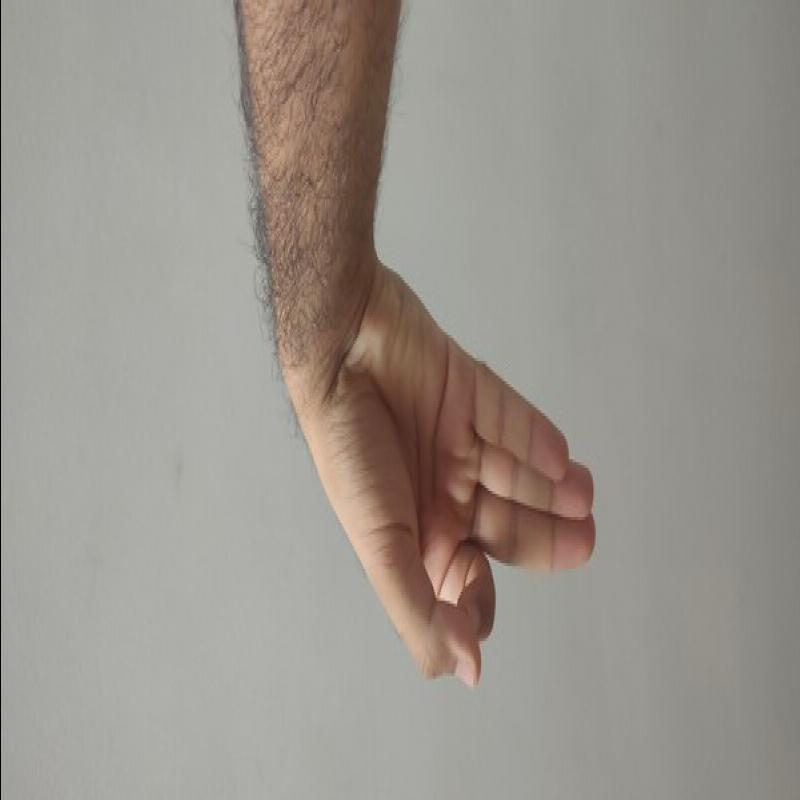Mudraakhyam: (309, 277, 608, 697)
